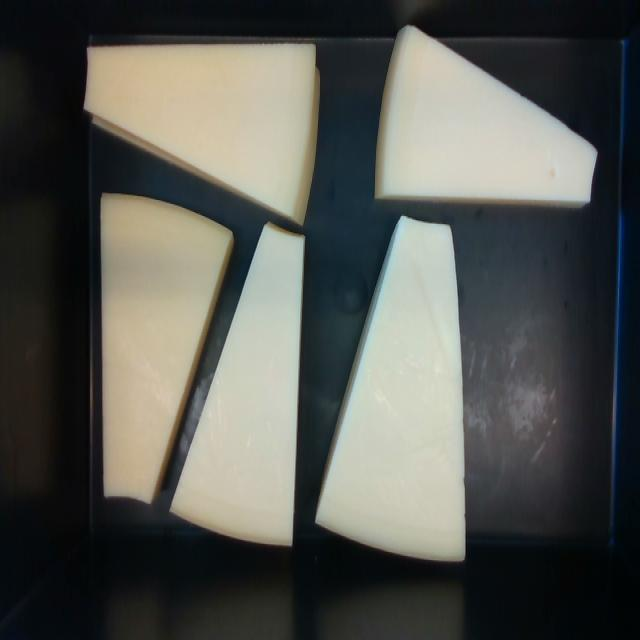Cheese: (315, 216, 463, 560), (171, 224, 302, 544), (84, 43, 317, 221), (102, 195, 232, 501), (376, 27, 595, 203)
